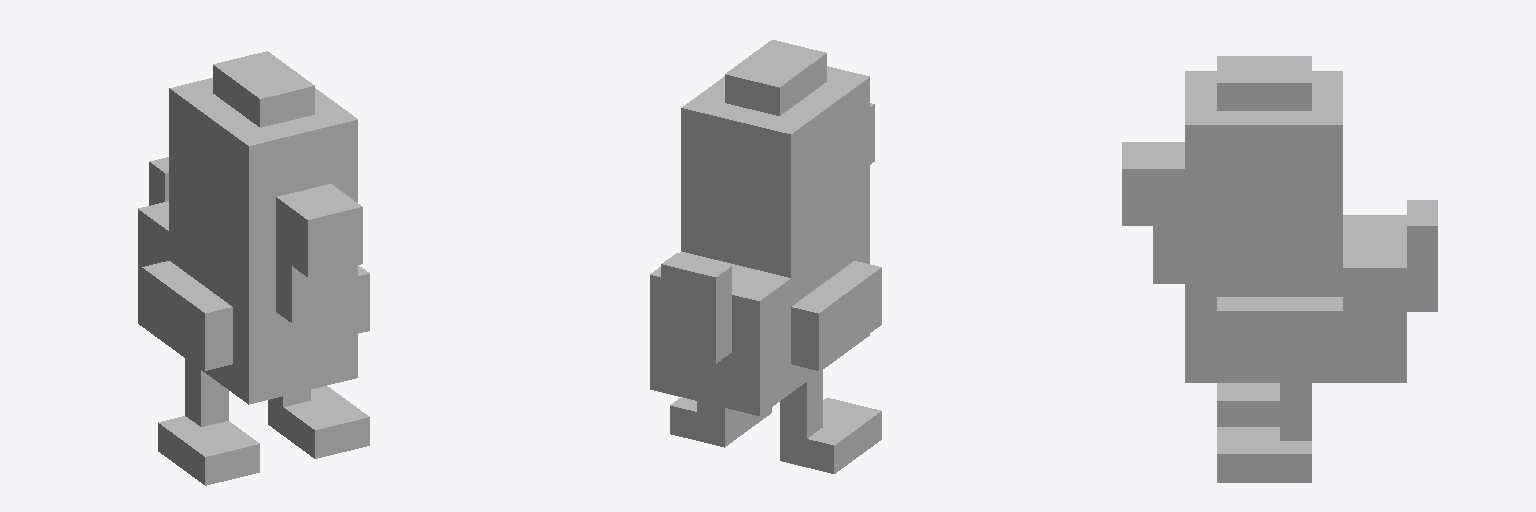
The model's file is MainCharacter.obj.
3 views of the same model, side by side, from view 1: azimuth 30°, elevation 25°; view 2: azimuth 150°, elevation 25°; view 3: azimuth 270°, elevation 25° (orthographic).
Size of the model in its own units: 6 by 13 by 10.